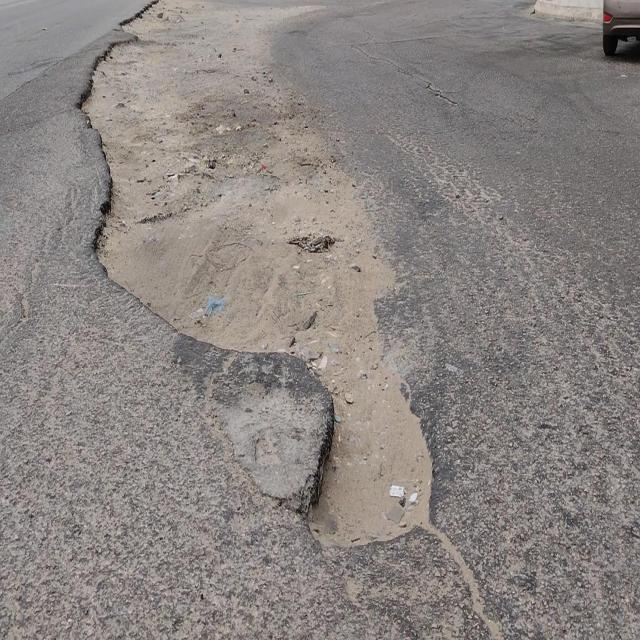Pothole: (297, 362, 437, 554), (88, 181, 169, 306), (74, 73, 124, 140), (106, 37, 138, 66)
